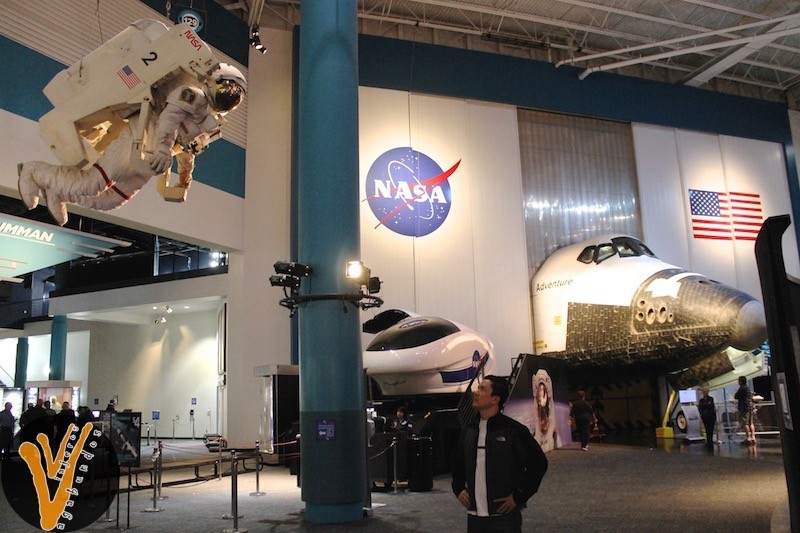NASA: (359, 145, 463, 241)
